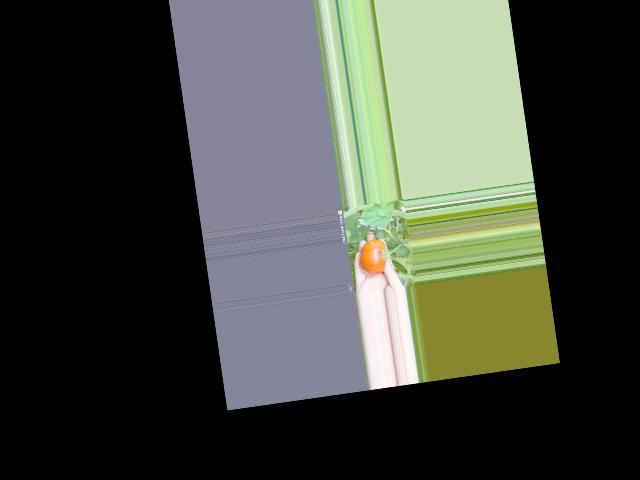tomato: (357, 238, 389, 277)
